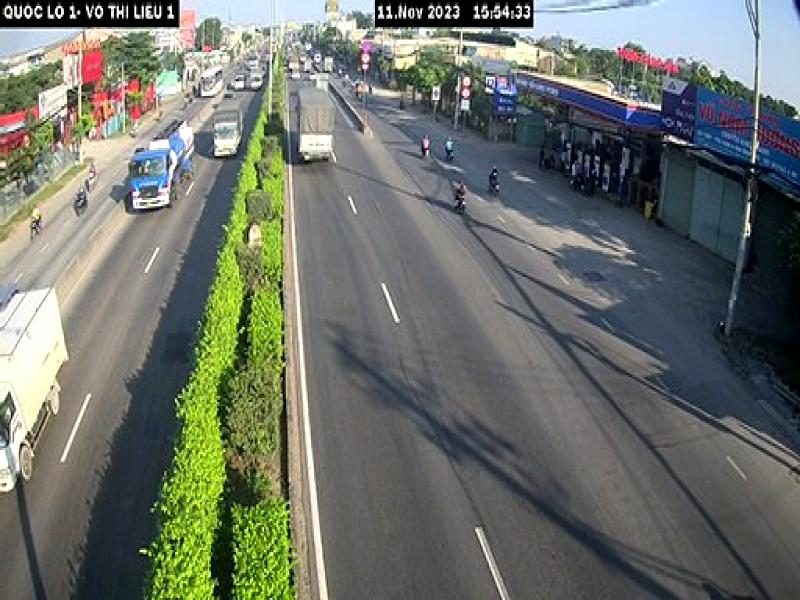truck: (0, 281, 67, 494), (129, 116, 199, 218), (293, 84, 338, 167), (210, 98, 247, 159)
